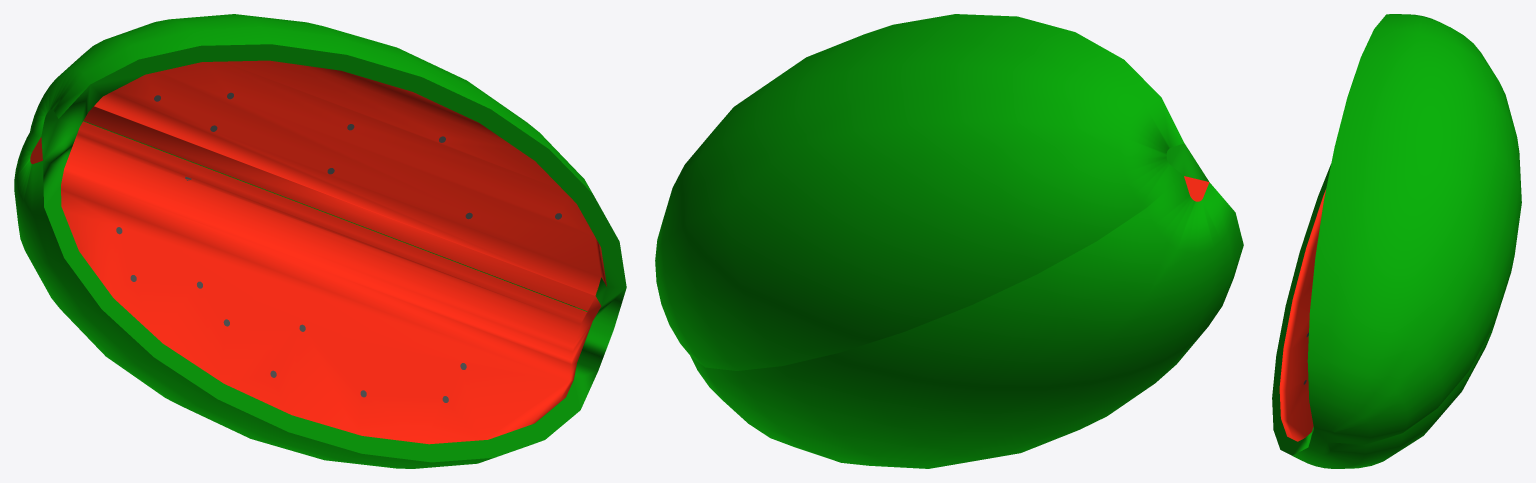
Rendered from melon.fbx.
3 renders of one model, left to right at view 1: azimuth 30°, elevation 25°; view 2: azimuth 150°, elevation 25°; view 3: azimuth 270°, elevation 25°, orthographic. The views are drawn at different scales.
Visible parts, largest first — view 1: Layer0_001; view 2: Layer0_001; view 3: Layer0_001.
Boxes of the visible parts, x1,y1,x2,y2 form: Layer0_001: (14, 14, 626, 468); Layer0_001: (655, 14, 1243, 468); Layer0_001: (1272, 14, 1521, 468).
Bounding box in the file's own units: 2.82 × 2.23 × 1.48.
